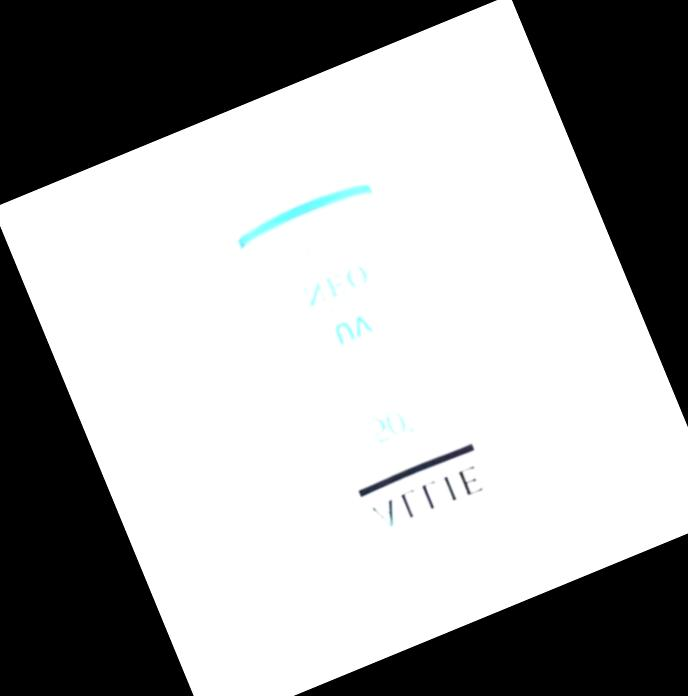cosmetic: (177, 93, 554, 630)
